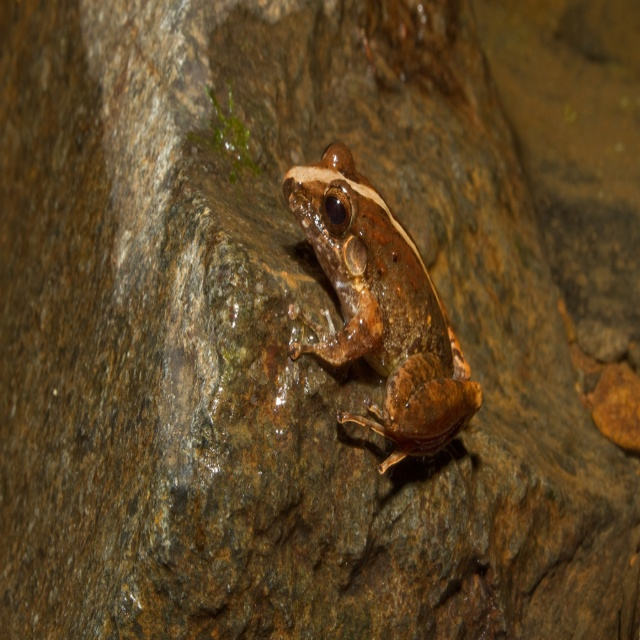Frog: (279, 139, 482, 477)
